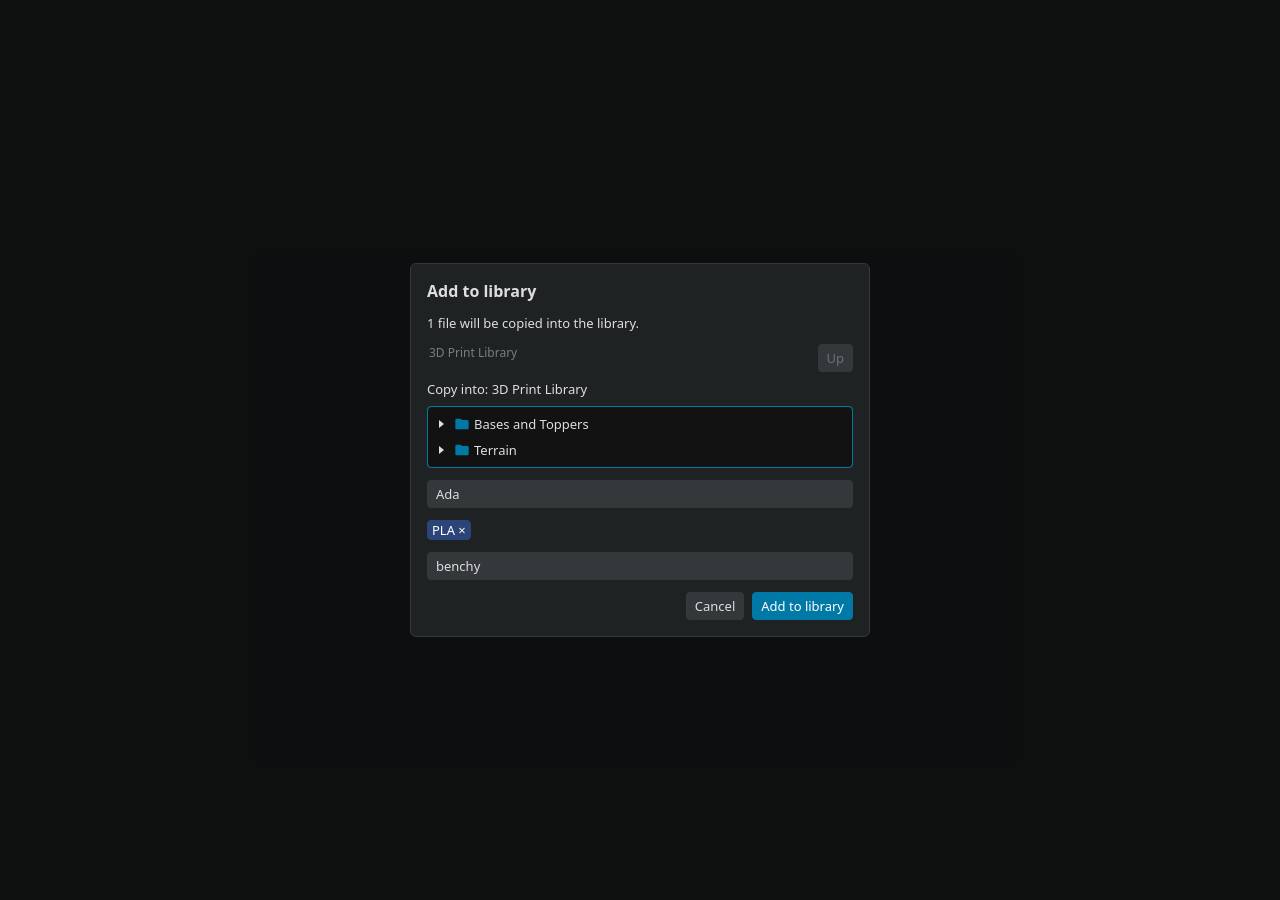
AddToLibraryDialog › keeps the chosen destination when the default root place is a new object
This screenshot has width=1280, height=900.
Click the option "Terrain": (478, 450) [438, 441, 517, 459]
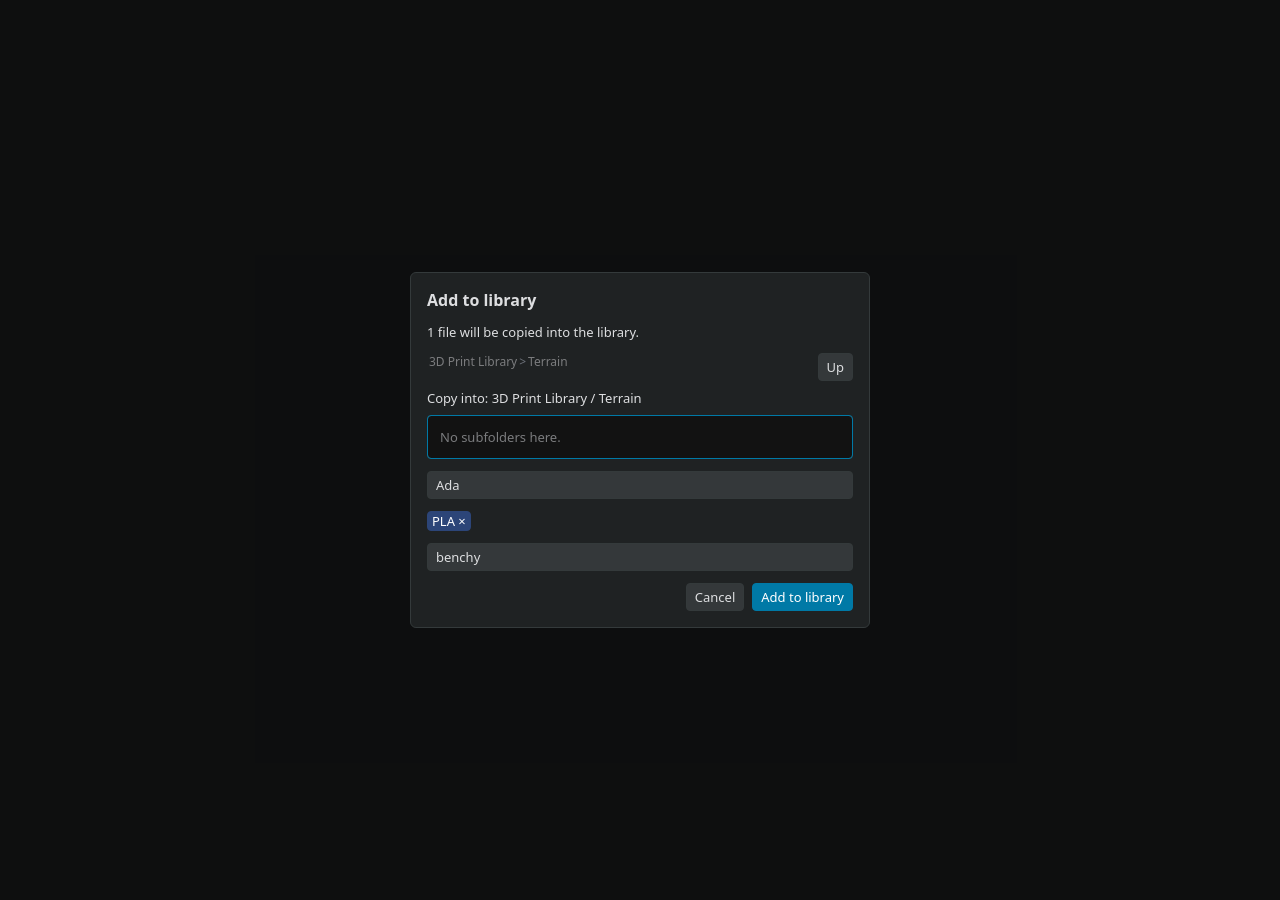
Result: the text with class "folder-picker-destination" reads "Copy into: 3D Print Library / Terrain" at [427, 389, 642, 407]
